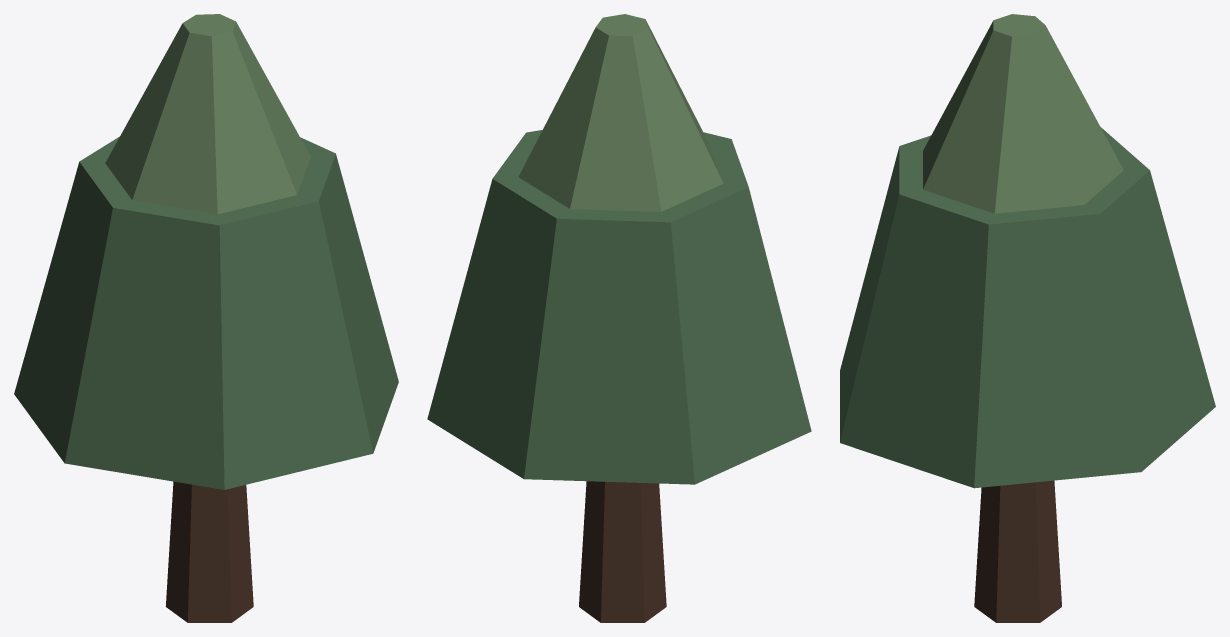
File: prop_tree_01.glb
3 renders of one model, left to right at view 1: azimuth 30°, elevation 25°; view 2: azimuth 150°, elevation 25°; view 3: azimuth 270°, elevation 25°, orthographic.
Visible parts, largest first — view 1: CrownLower, CrownUpper, Trunk; view 2: CrownLower, CrownUpper, Trunk; view 3: CrownLower, CrownUpper, Trunk.
Boxes of the visible parts, bbox=[...] form: CrownLower: bbox=[14, 136, 398, 489]; CrownUpper: bbox=[105, 14, 310, 214]; Trunk: bbox=[165, 481, 253, 622]; CrownLower: bbox=[427, 130, 811, 484]; CrownUpper: bbox=[518, 14, 723, 211]; Trunk: bbox=[579, 481, 666, 622]; CrownLower: bbox=[840, 127, 1215, 488]; CrownUpper: bbox=[923, 14, 1123, 213]; Trunk: bbox=[974, 480, 1061, 622].
Bounding box in the file's own units: 1.4 × 2.34 × 1.37.
